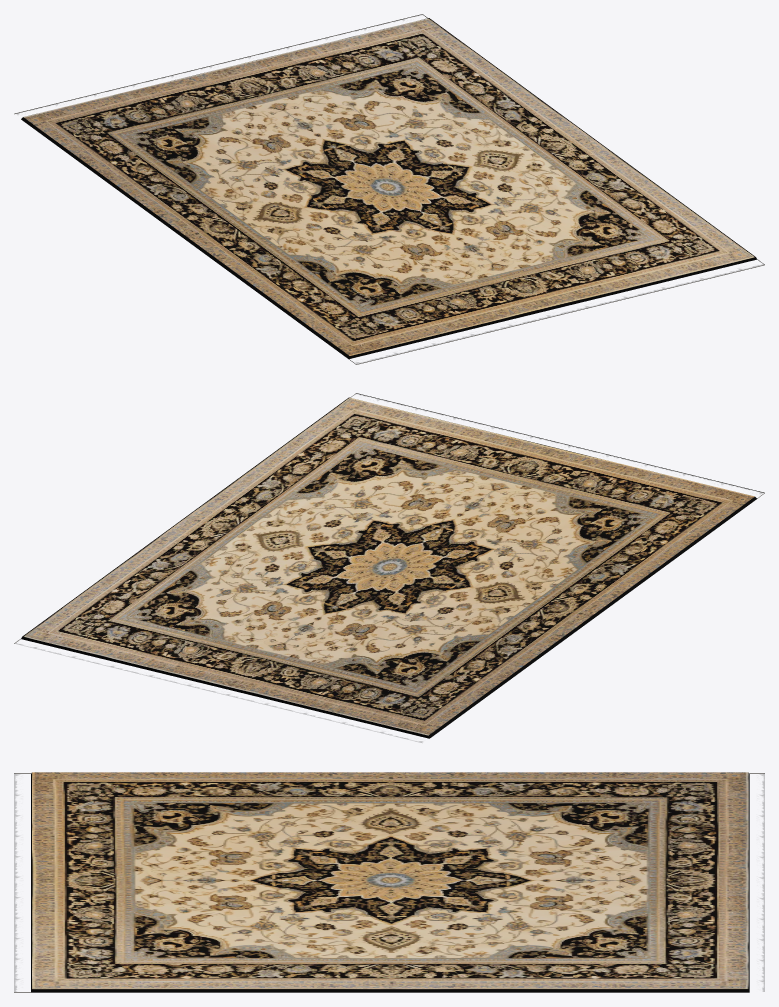
Rendered from rug.glb.
3 views of the same model, one above another, from view 1: azimuth 30°, elevation 25°; view 2: azimuth 150°, elevation 25°; view 3: azimuth 270°, elevation 25° (orthographic). The views are drawn at different scales.
Parts seen in each view (by area): view 1: Floor.001_0; view 2: Floor.001_0; view 3: Floor.001_0.
Part boxes in pixels (<box>): Floor.001_0: <box>14,14,764,364</box>; Floor.001_0: <box>14,393,764,742</box>; Floor.001_0: <box>14,772,764,992</box>.
Size of the model in its own units: 2.54 by 0.0141 by 3.69.
Materials: 3 (2 with a texture image).
